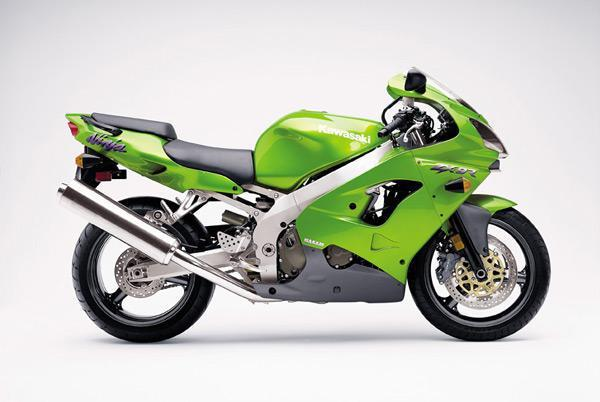motorcycle: (50, 64, 568, 360)
